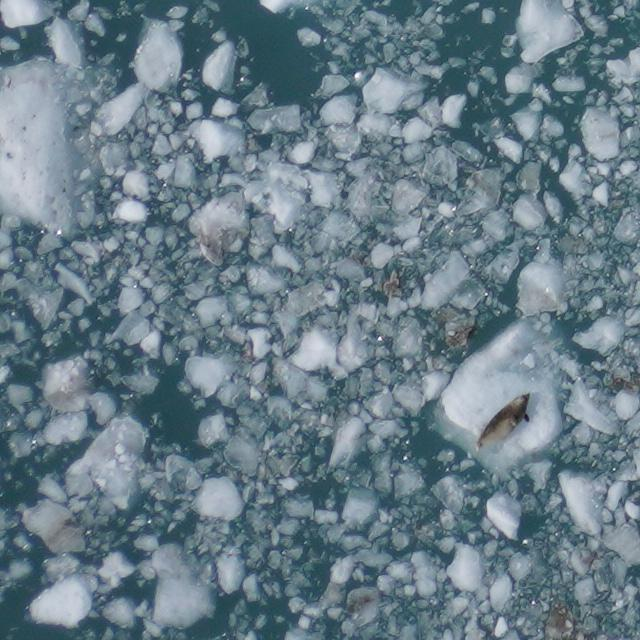seal: (463, 385, 545, 458)
